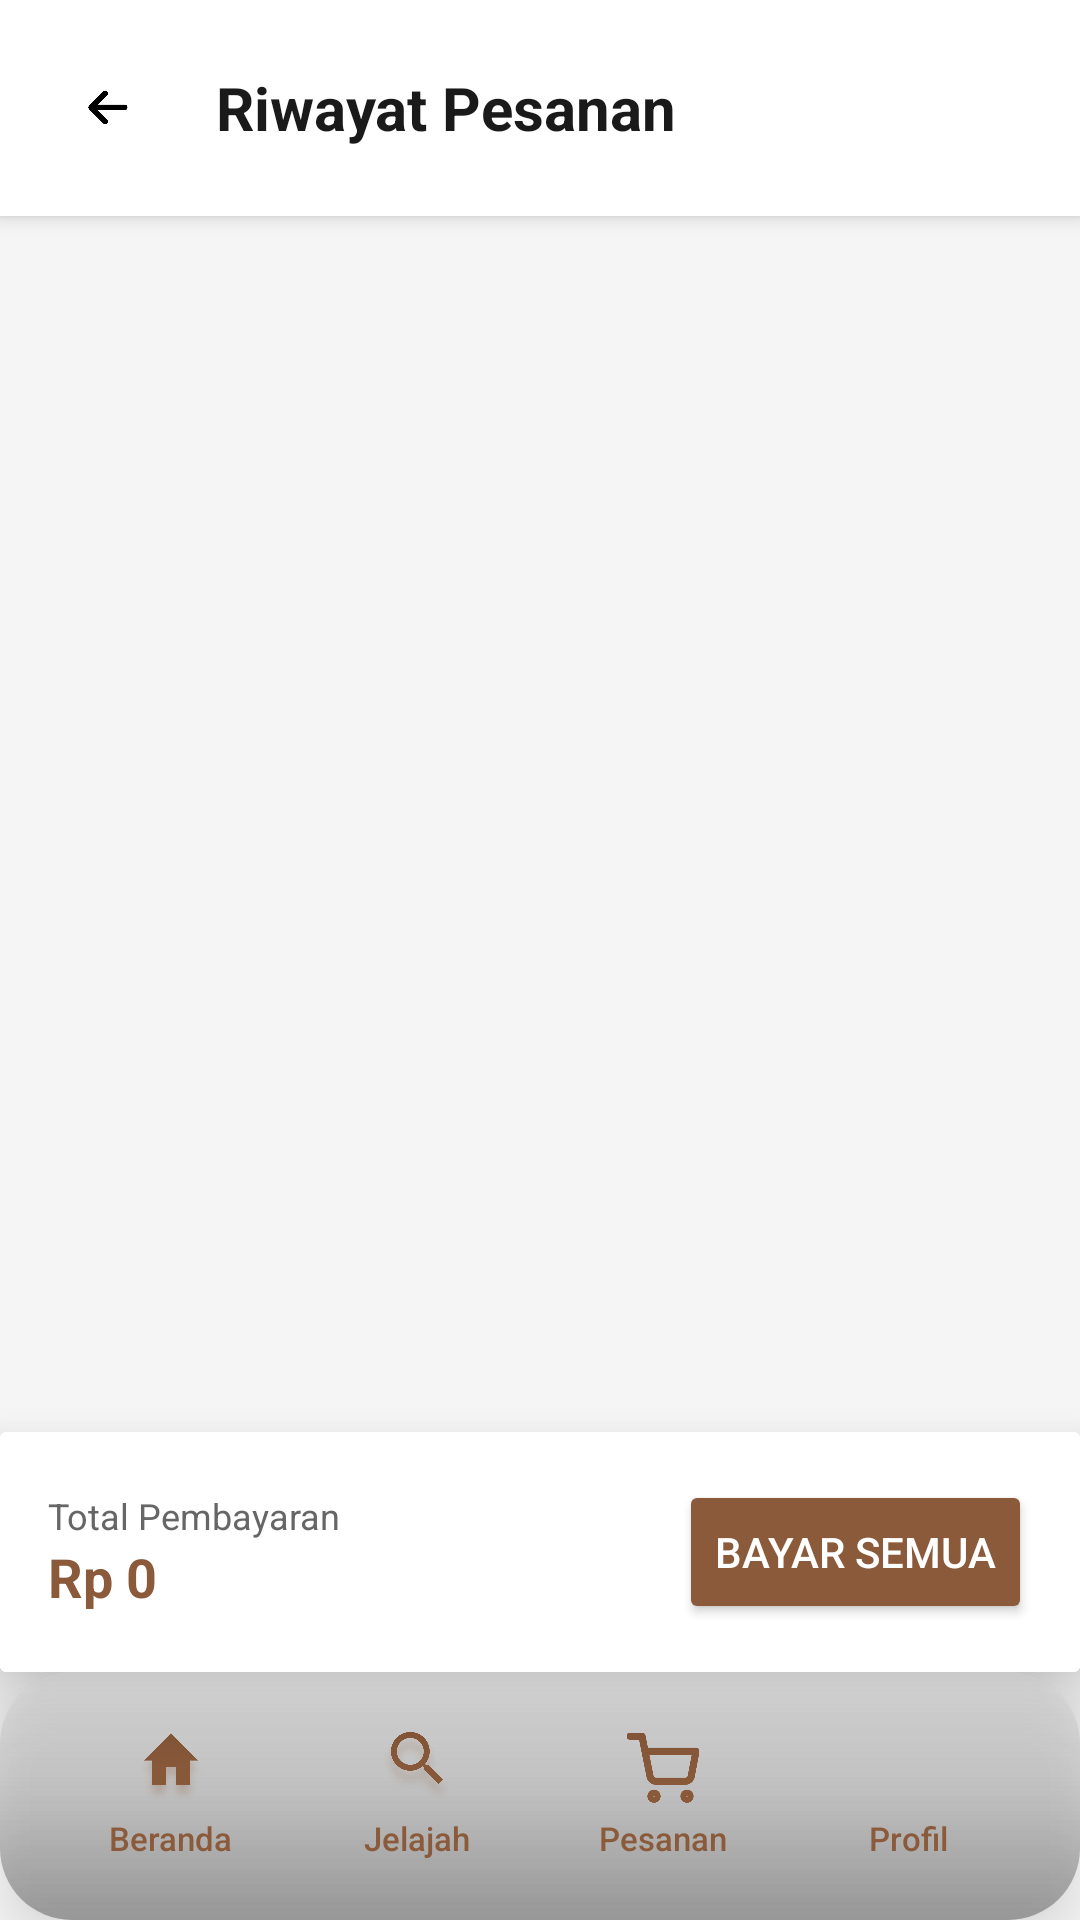

Where to tap for icons on this 1080*1920 app screen, as point (x, y):
back: point (108, 107)
search: point (417, 1758)
